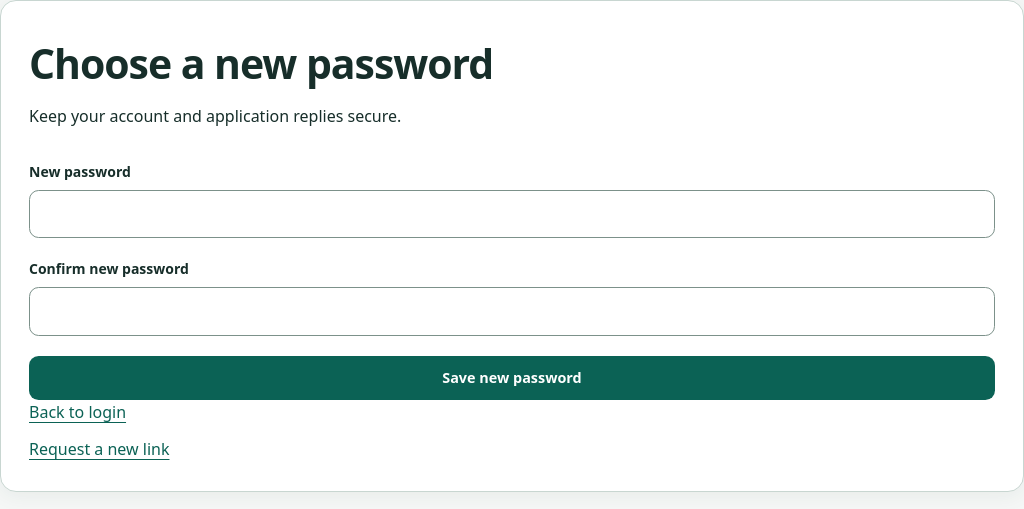
Test: retains fragment credentials in StrictMode, removes them from URL and submits once
Step 1. Type "Strong-river-phrase-2027!" into the password field labelled "New password" → (512, 214), box x1=29 y1=190 x2=995 y2=238
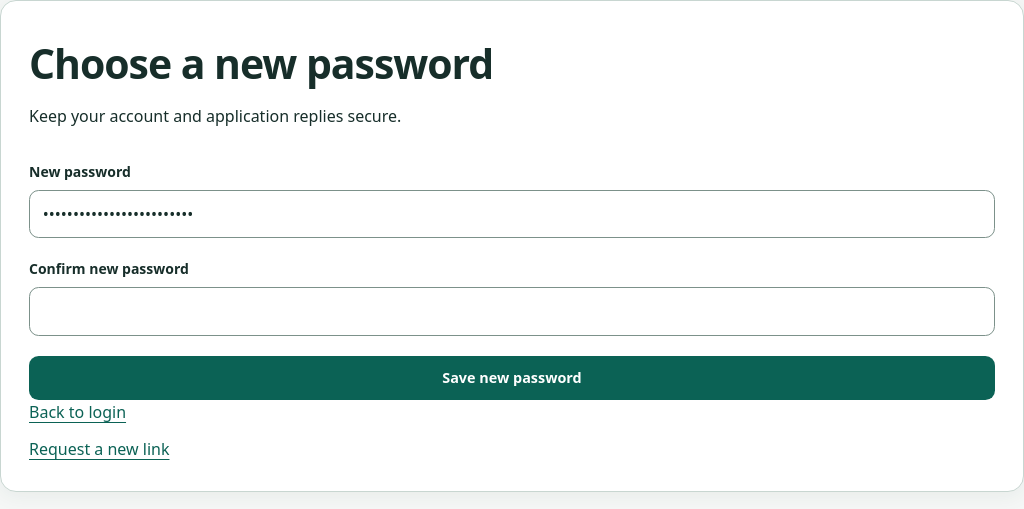
Step 2. Type "Strong-river-phrase-2027!" into the password field labelled "Confirm new password" → (512, 312), box x1=29 y1=287 x2=995 y2=336
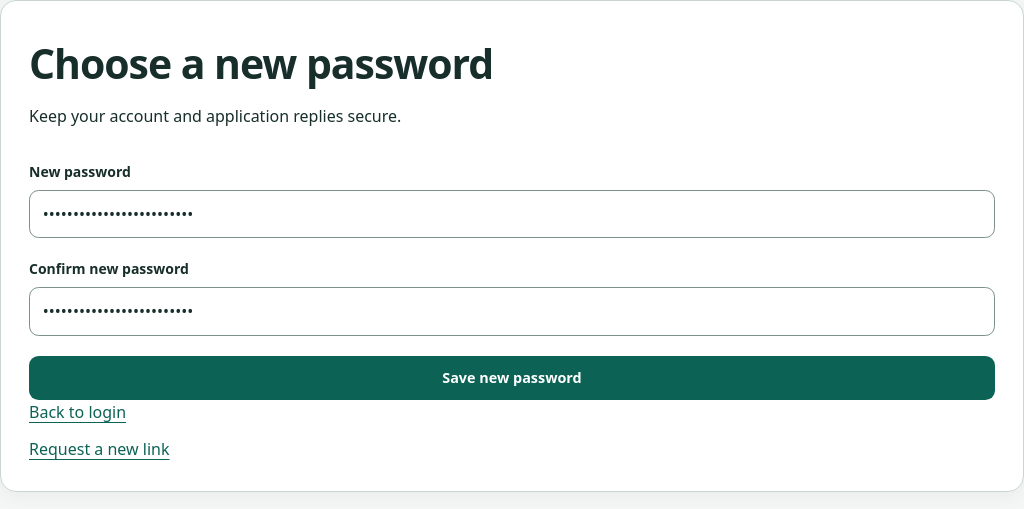
Step 3. Click the button "Save new password" → click(512, 378), box x1=29 y1=356 x2=995 y2=400
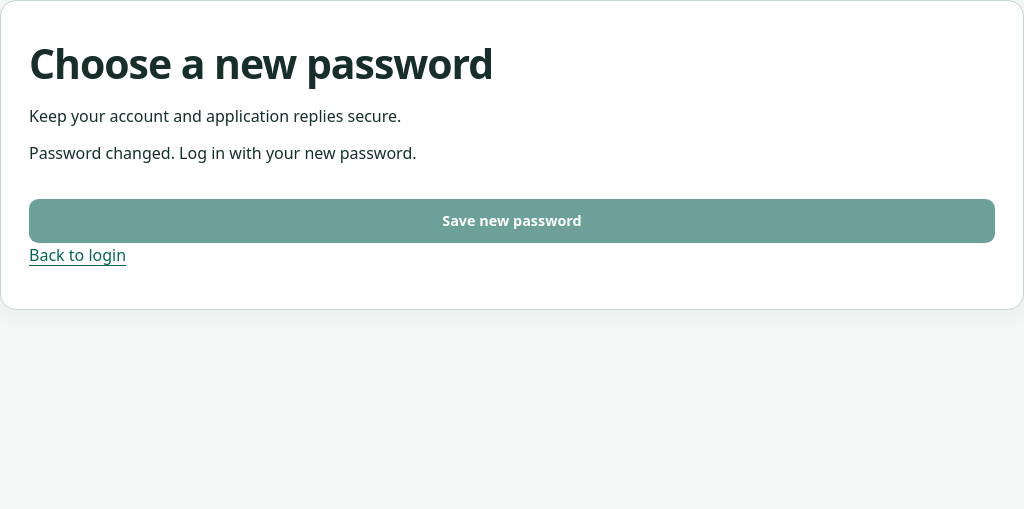
Expected: the message shows "Password changed", x1=29 y1=142 x2=416 y2=164
